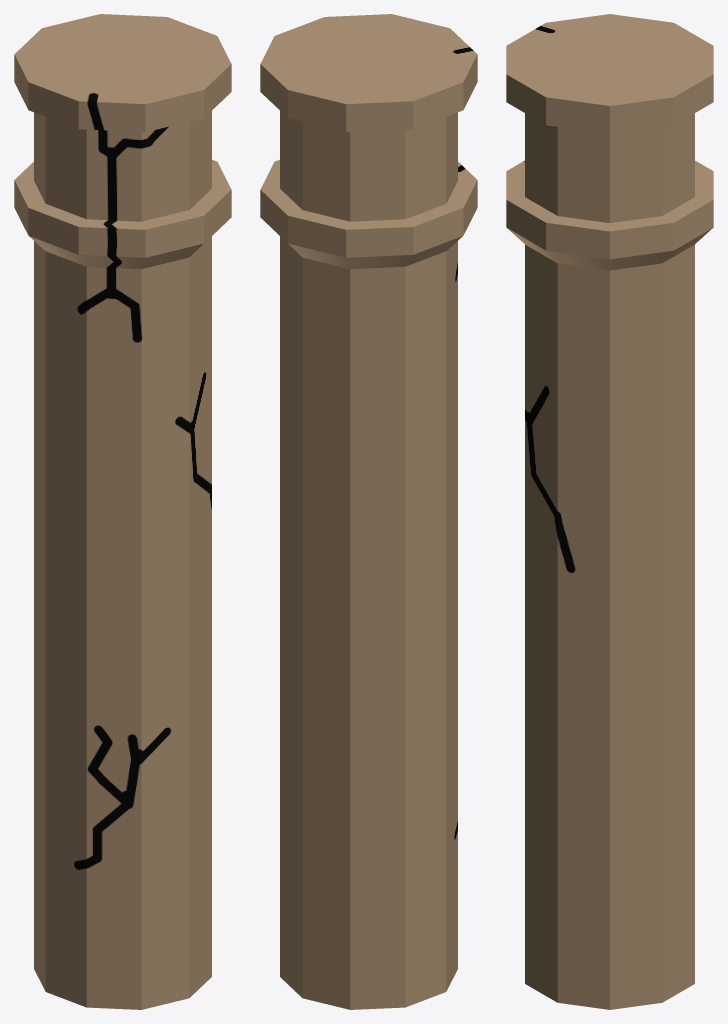
The model's file is 3D_obstacle_column_cracks_02.fbx.
3 renders of one model, left to right at view 1: azimuth 30°, elevation 25°; view 2: azimuth 150°, elevation 25°; view 3: azimuth 270°, elevation 25°, orthographic.
Parts seen in each view (by area): view 1: SM_cracks_02; view 2: SM_cracks_02; view 3: SM_cracks_02.
Part boxes in pixels (x1,y1,x2,y2): SM_cracks_02: (14, 14, 231, 1009); SM_cracks_02: (260, 14, 477, 1009); SM_cracks_02: (506, 14, 713, 1009).
Size of the model in its own units: 84 by 388 by 79.89.
1 material, 1 textured.
